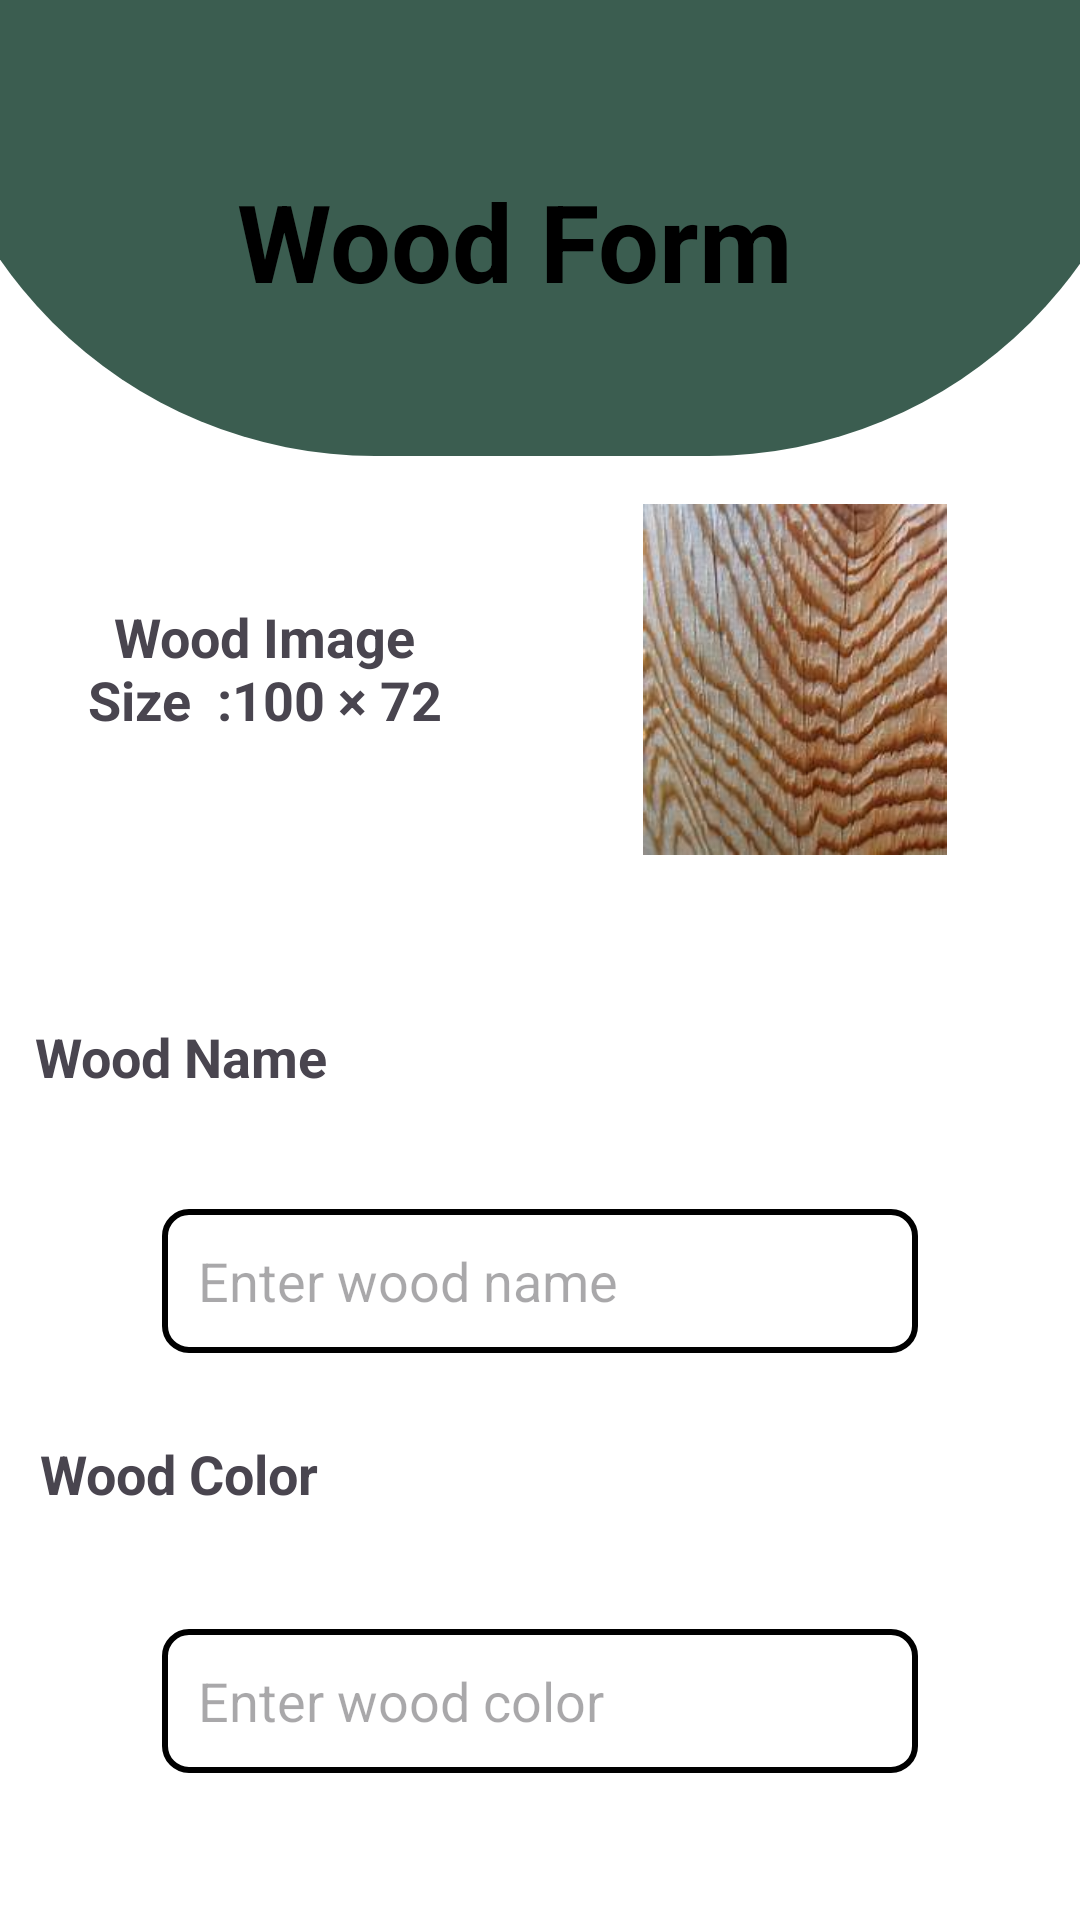

Where icons sit on this 1080px×1920px app screen, as BBox(x1, y1, x2, y2):
cedarwood: BBox(643, 504, 947, 855)
